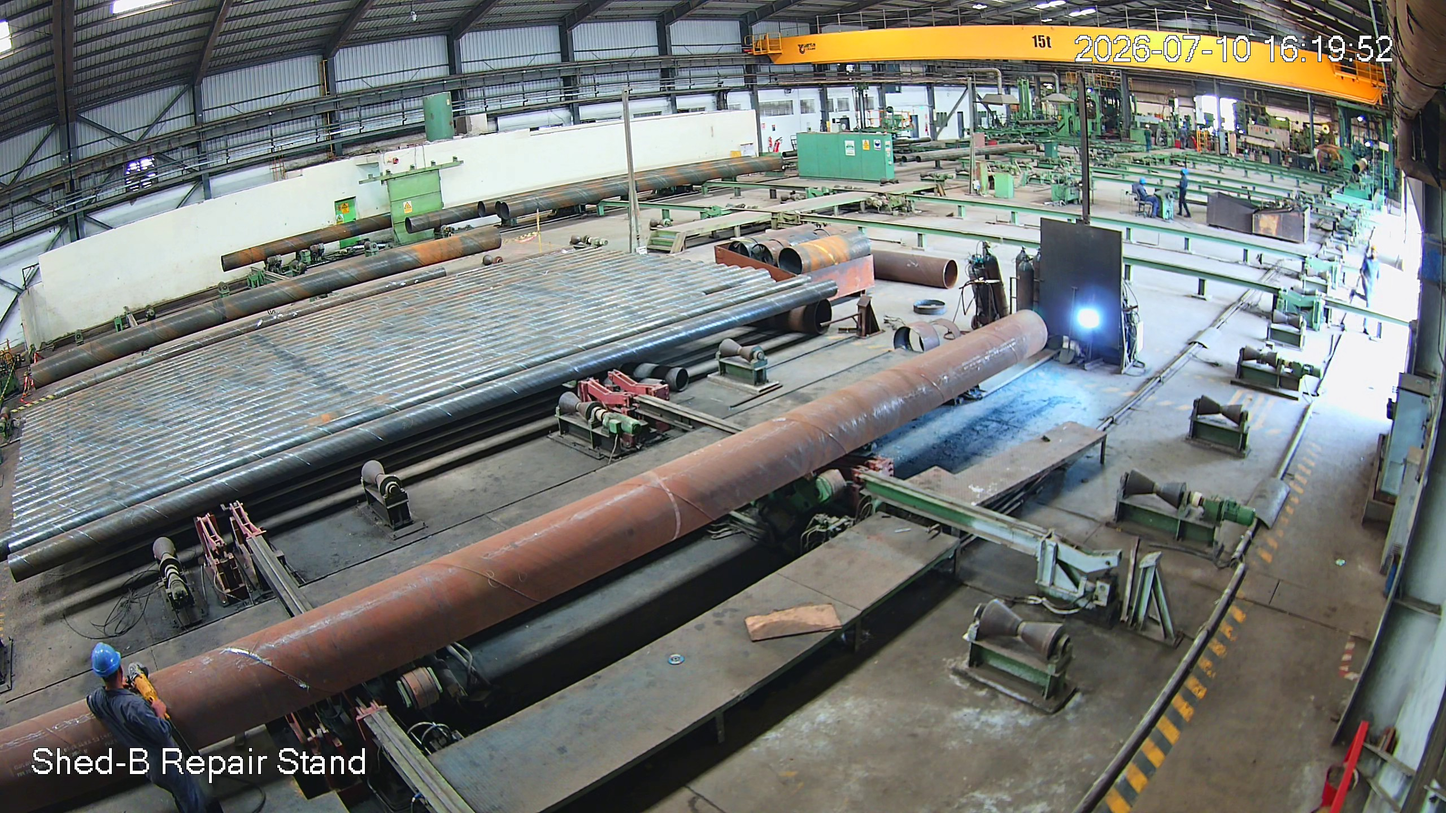Helmet: (84, 639, 147, 707)
Person: (83, 643, 214, 813)
